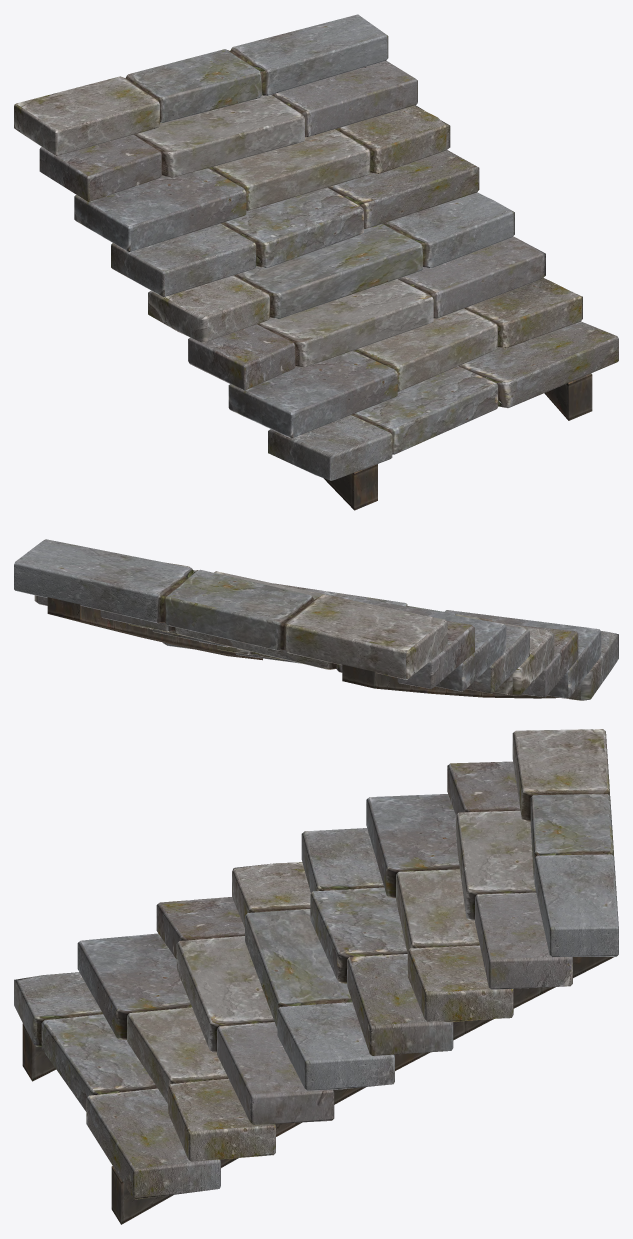
The picture shows the model from 3 angles, top to bottom: view 1: azimuth 30°, elevation 25°; view 2: azimuth 150°, elevation 25°; view 3: azimuth 270°, elevation 25°; orthographic projection. The views are drawn at different scales.
Parts seen in each view (by area): view 1: SM_Library_Steps_A_LOD0; view 2: SM_Library_Steps_A_LOD0; view 3: SM_Library_Steps_A_LOD0.
Boxes of the visible parts, bbox=[...] form: SM_Library_Steps_A_LOD0: bbox=[14, 14, 618, 510]; SM_Library_Steps_A_LOD0: bbox=[14, 539, 618, 700]; SM_Library_Steps_A_LOD0: bbox=[14, 729, 618, 1224].
Bounding box in the file's own units: 4.03 × 2.35 × 4.5.
2 materials, 2 textured.
